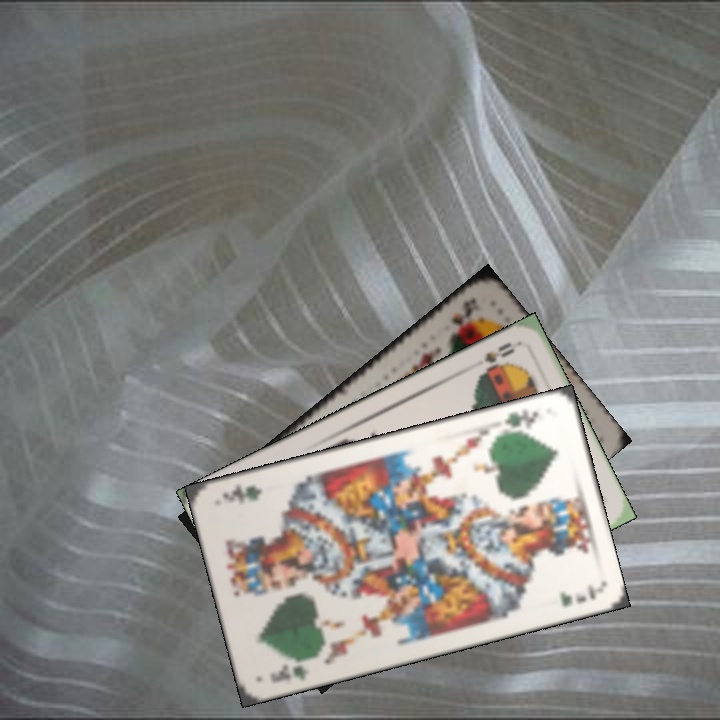GK: (266, 659, 312, 685), (500, 405, 541, 432)
SK: (446, 294, 482, 333)
SO: (473, 338, 521, 379)
